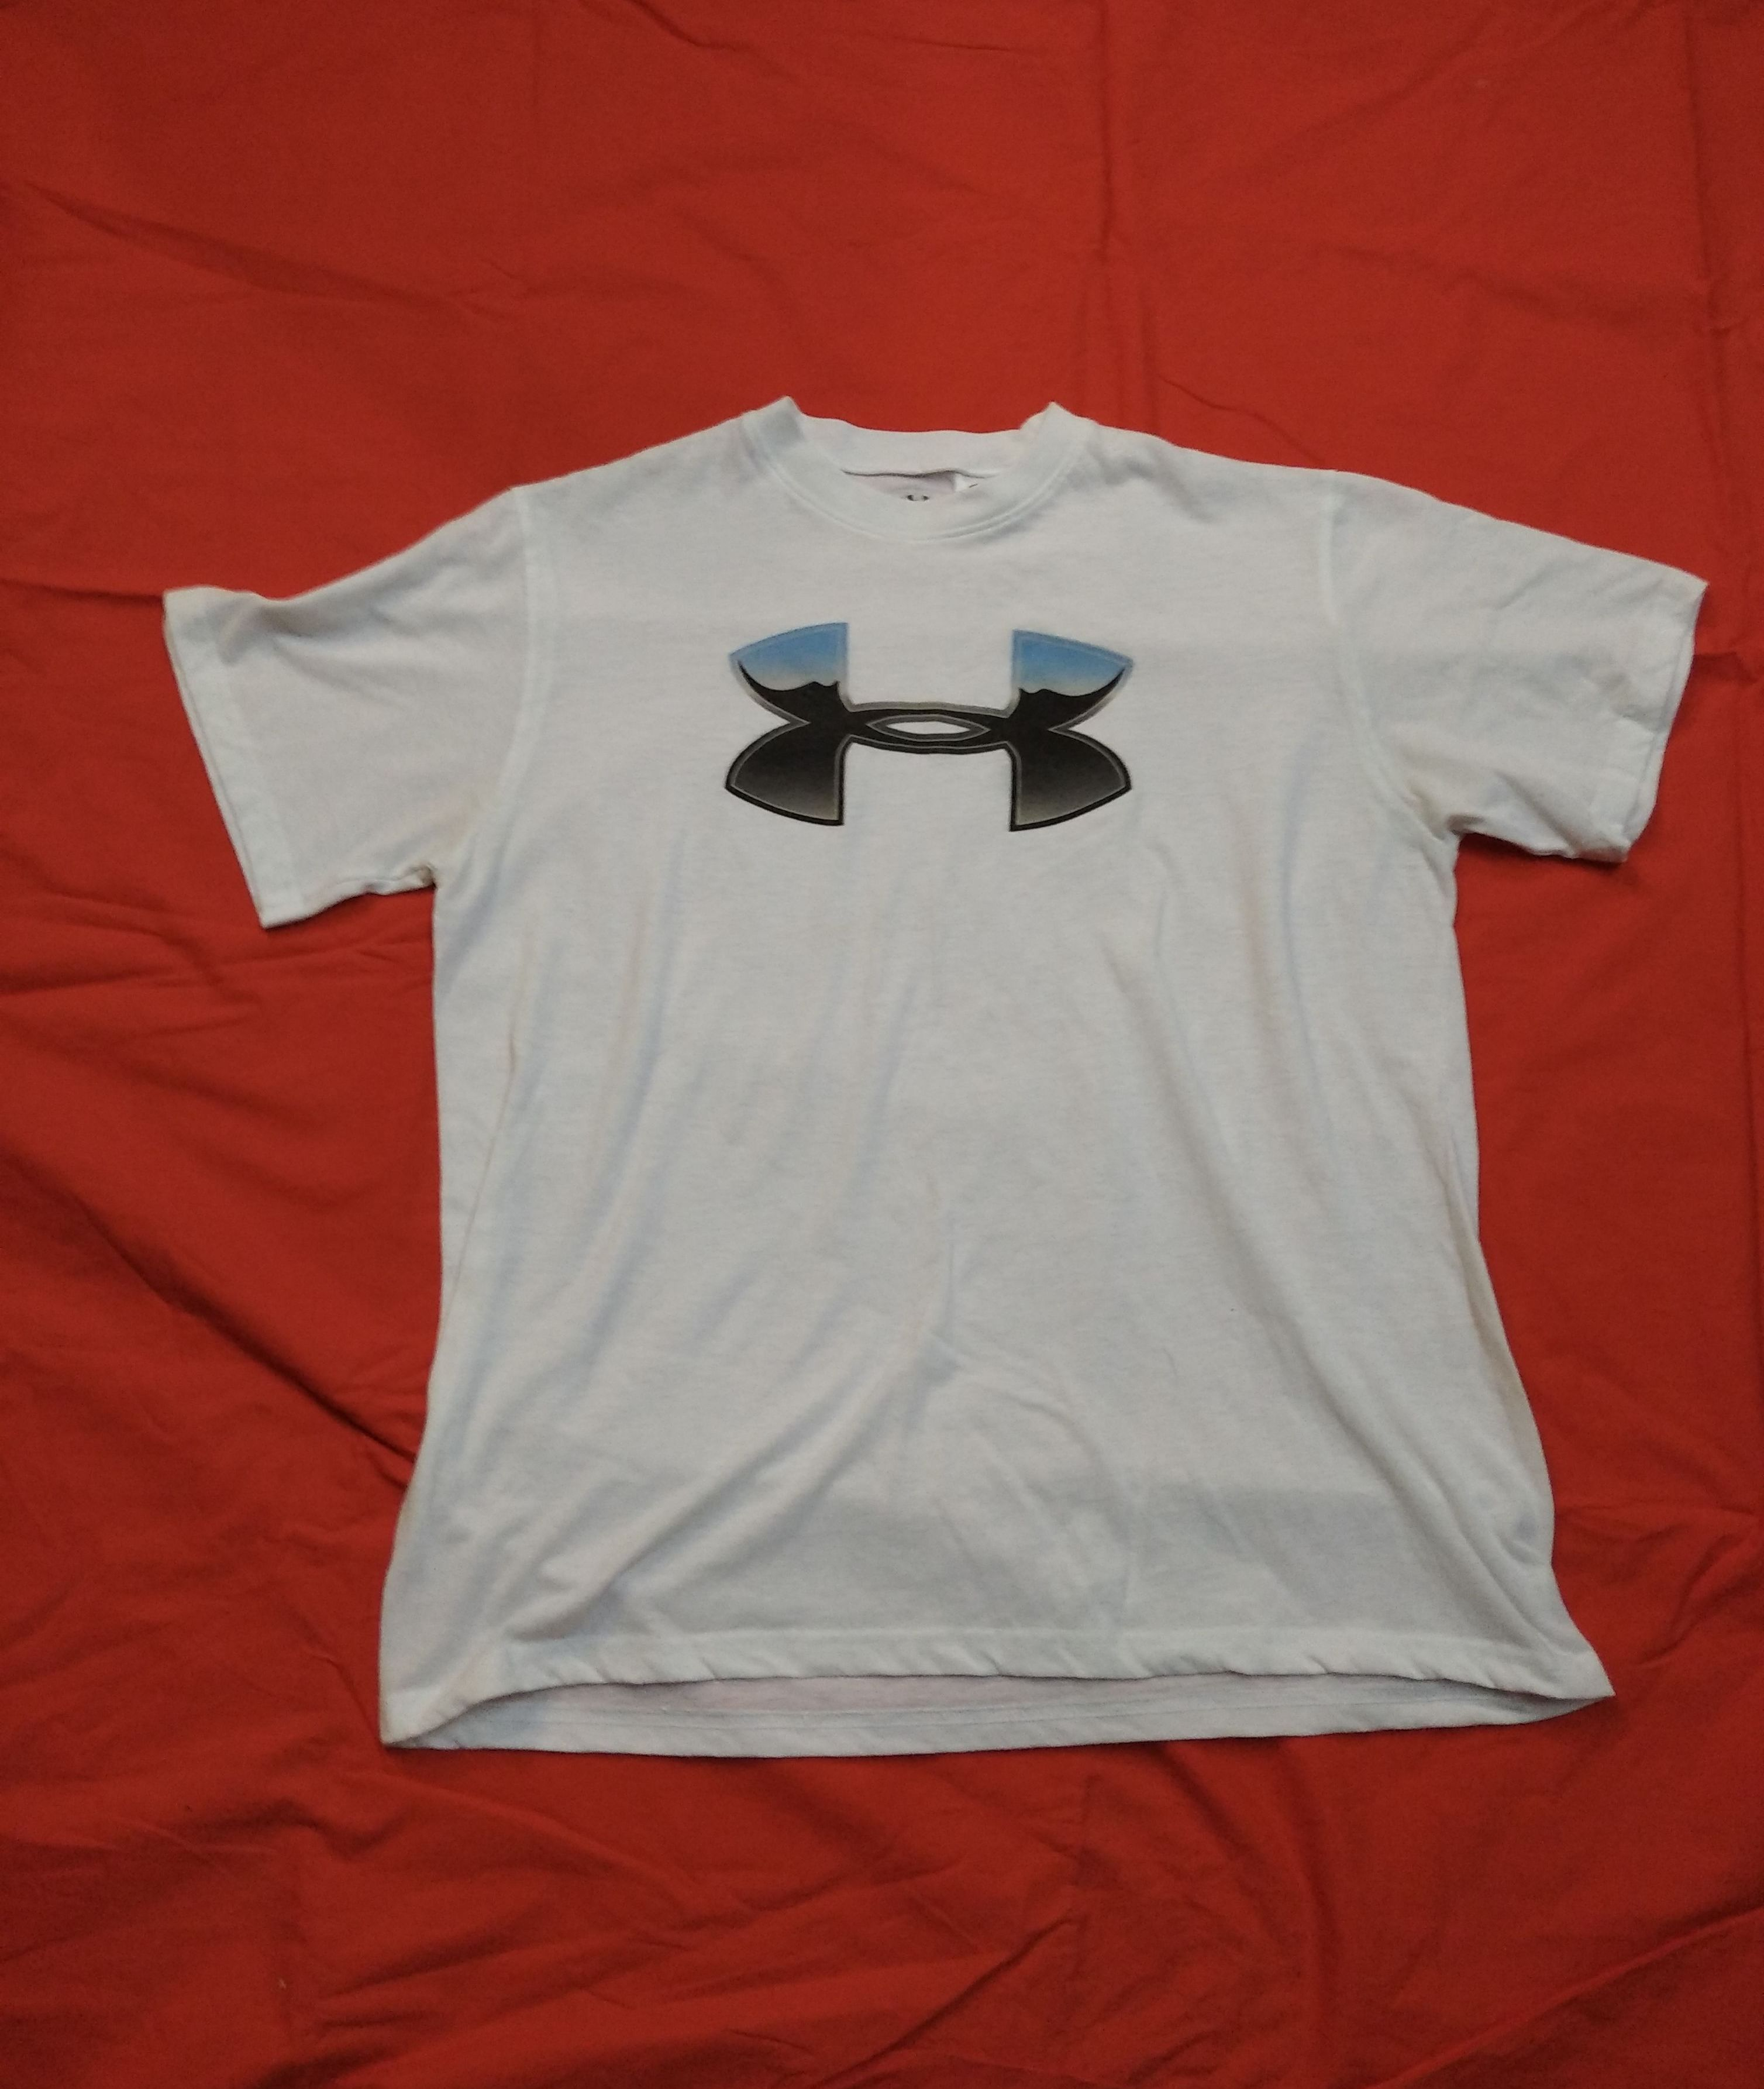clothes: (150, 371, 1750, 1757)
